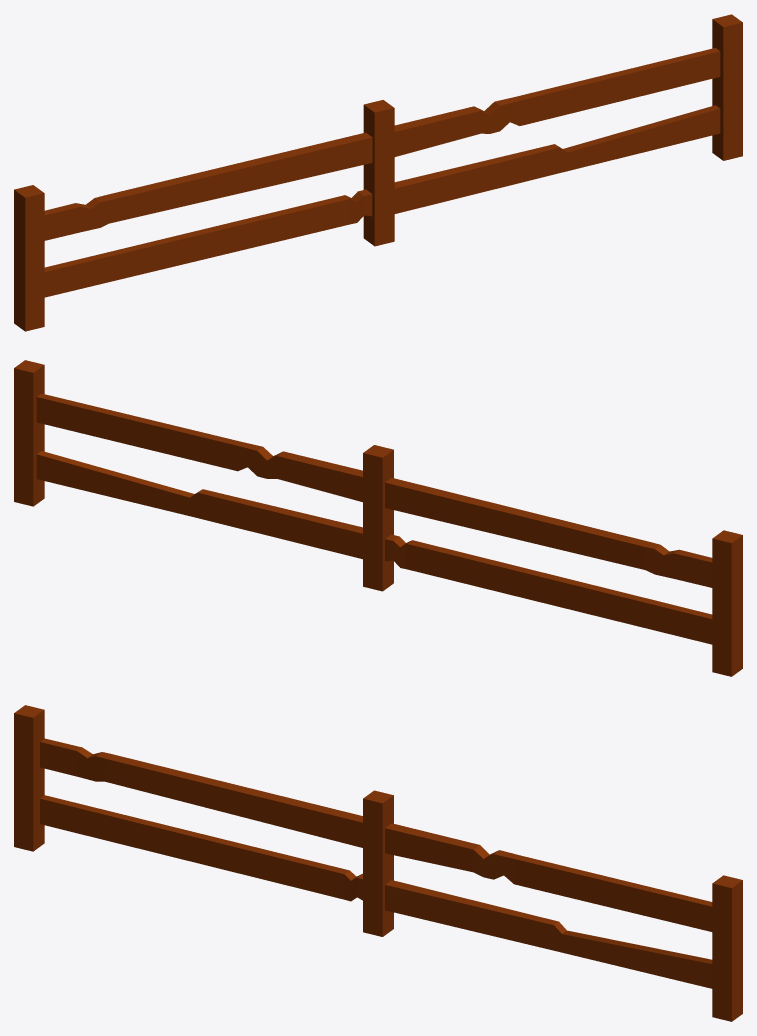
Rendered from fence_segment_6.glb.
3 views of the same model, one above another, from view 1: azimuth 30°, elevation 25°; view 2: azimuth 150°, elevation 25°; view 3: azimuth 330°, elevation 25° (orthographic).
Parts seen in each view (by area): view 1: fence_segment_6; view 2: fence_segment_6; view 3: fence_segment_6.
Part boxes in pixels (x1,y1,x2,y2): fence_segment_6: (14,14,742,331); fence_segment_6: (14,360,742,676); fence_segment_6: (14,705,742,1021).
Size of what is drawn, in the model's own units: 6.16 by 1.1 by 0.1712.
